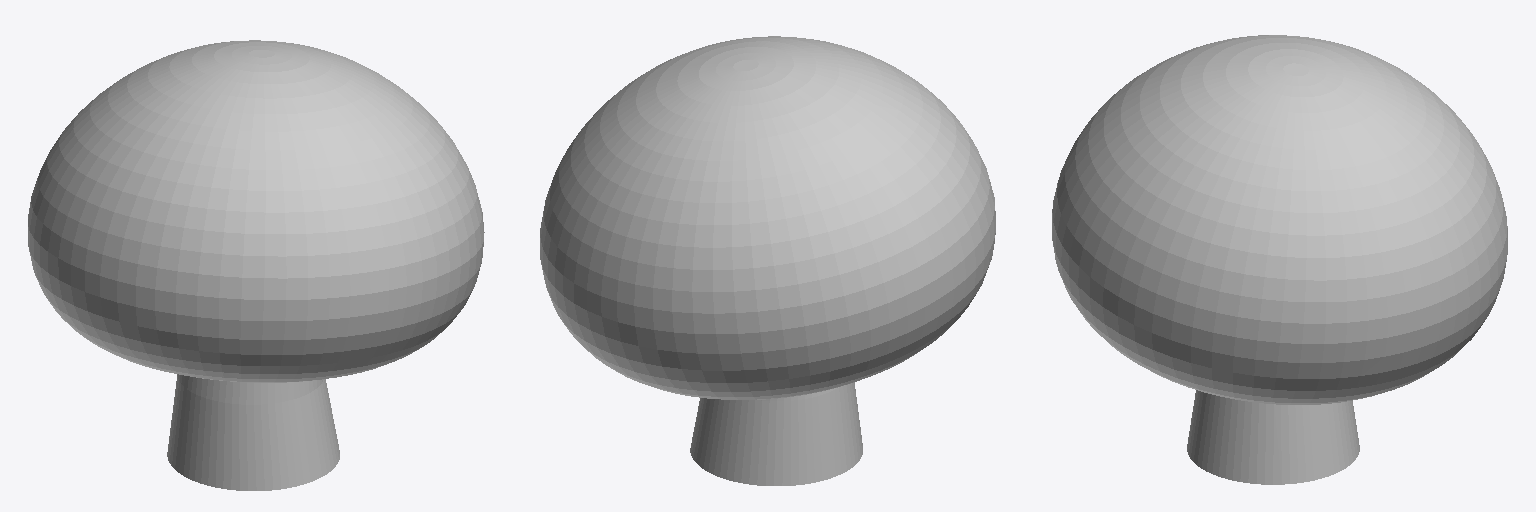
Rendered from Mushroom.obj.
3 views of the same model, side by side, from view 1: azimuth 30°, elevation 25°; view 2: azimuth 150°, elevation 25°; view 3: azimuth 270°, elevation 25° (orthographic).
Visible parts, largest first — view 1: mushroom; view 2: mushroom; view 3: mushroom.
Part boxes in pixels (bbox=[...]): mushroom: bbox=[28, 40, 484, 490]; mushroom: bbox=[540, 36, 995, 485]; mushroom: bbox=[1052, 35, 1507, 484].
Bounding box in the file's own units: 0.5484 × 0.5166 × 0.5484.